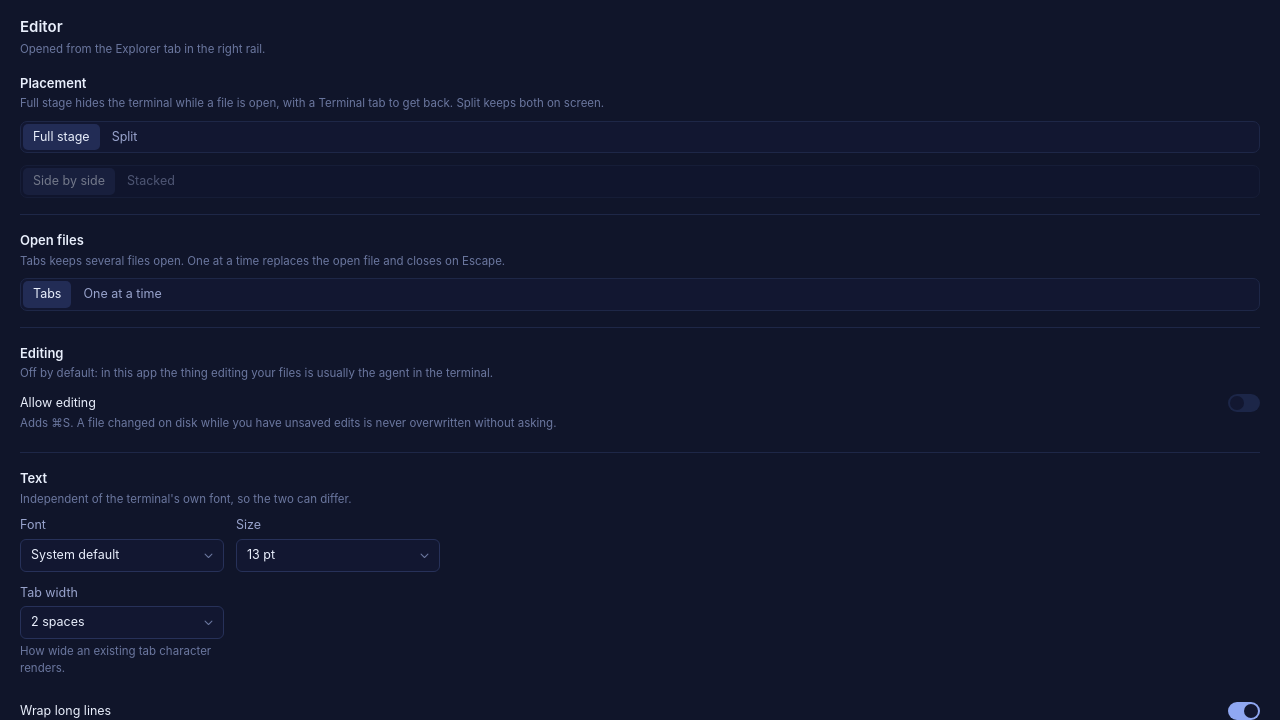
EditorSection › explains the cost of a side-by-side split only when one is chosen
This screenshot has width=1280, height=720.
Check: the text "Drag the divider" is not shown
Click the radio button labelled "Split".
click(124, 137)  # box [102,124,147,150]
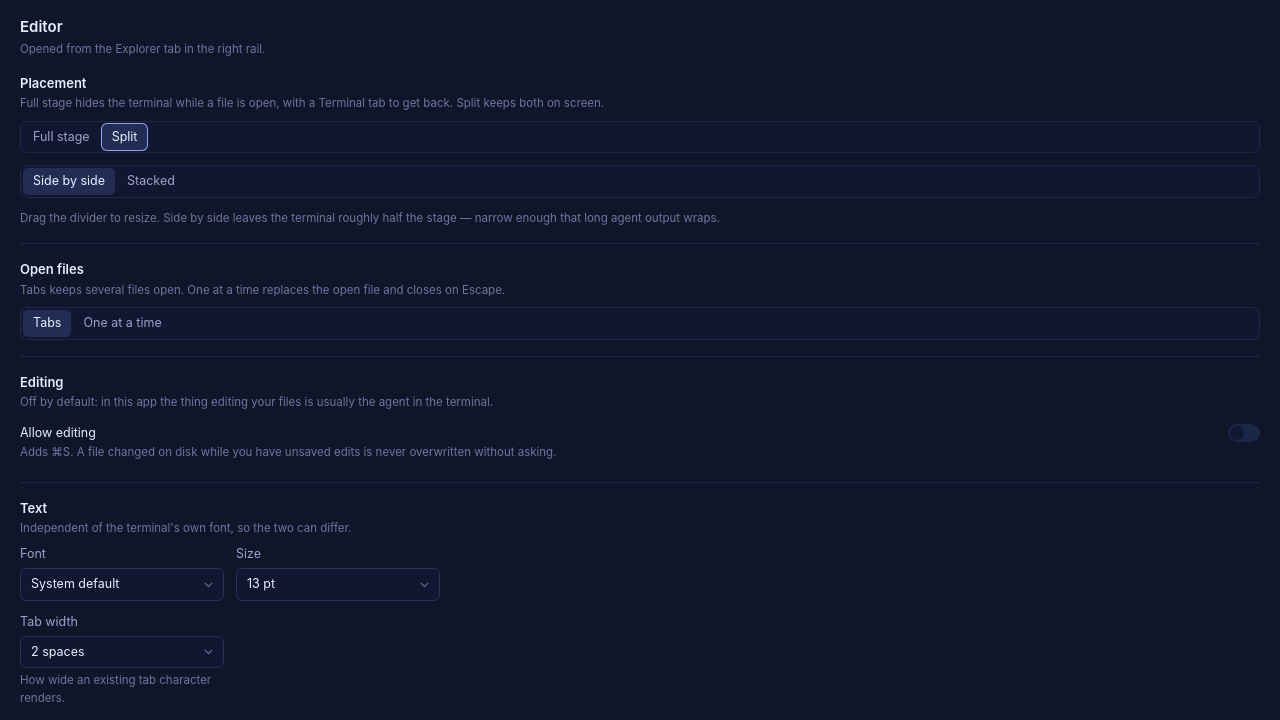
Check: the text "Drag the divider" is shown, box [20,211,720,225]
